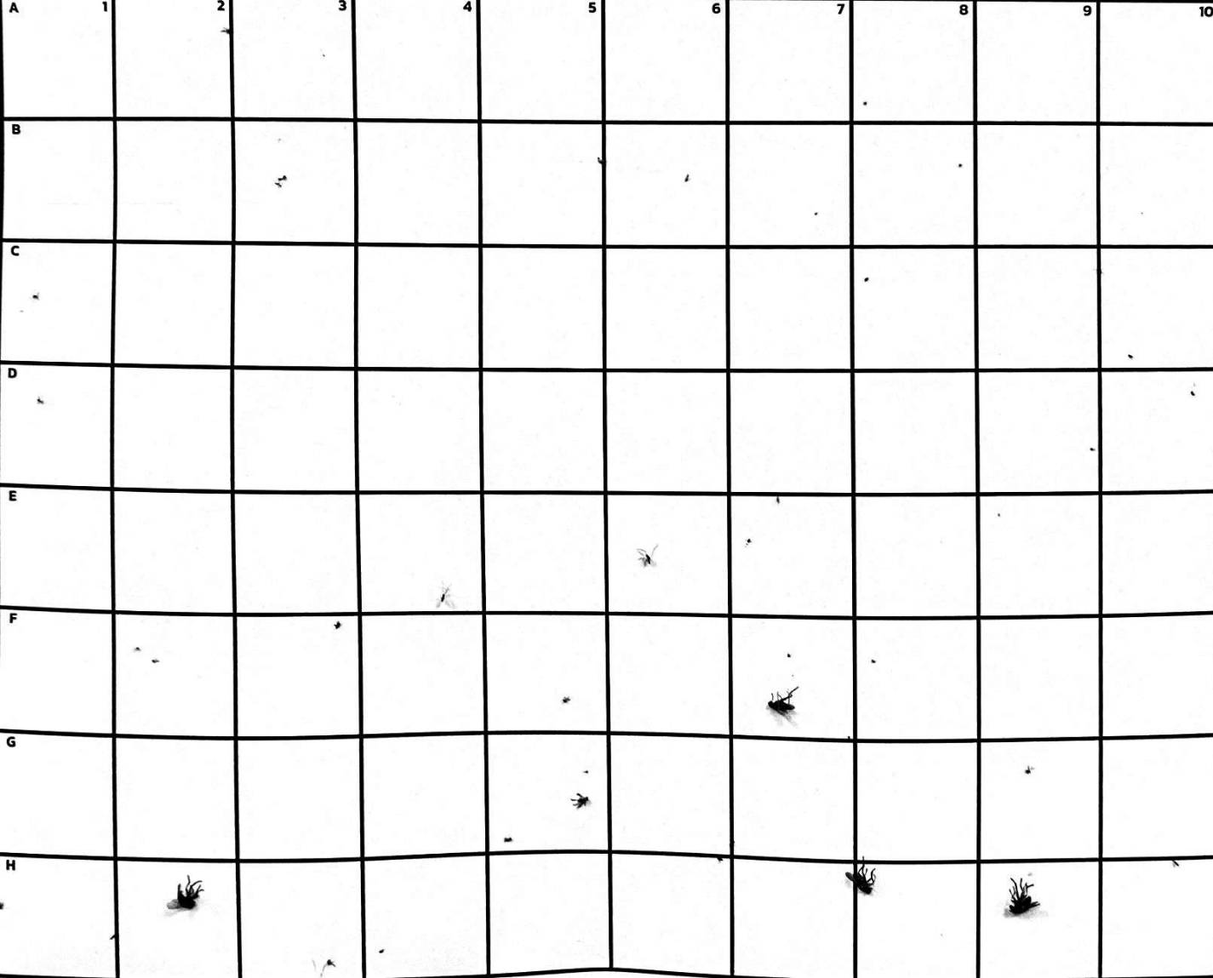fly: (157, 872, 208, 914), (759, 683, 804, 721), (843, 854, 880, 900), (1005, 875, 1042, 919)
test: (637, 544, 660, 569), (434, 585, 452, 609), (216, 24, 237, 37), (575, 793, 590, 810), (274, 173, 289, 189), (1169, 856, 1183, 870), (329, 619, 344, 632), (322, 957, 337, 968), (133, 641, 145, 654), (1024, 763, 1035, 777), (501, 834, 515, 844), (559, 694, 571, 705), (681, 171, 692, 183), (773, 495, 784, 506), (107, 931, 117, 943), (149, 656, 161, 666), (33, 396, 45, 406), (595, 154, 605, 165), (1127, 351, 1136, 363), (715, 854, 725, 864), (31, 292, 42, 301), (743, 536, 752, 546), (869, 657, 879, 666), (1188, 387, 1197, 397), (1086, 445, 1097, 453), (377, 946, 386, 955), (784, 650, 793, 659), (582, 767, 591, 775), (955, 161, 963, 170), (860, 100, 869, 107), (863, 275, 870, 284)
